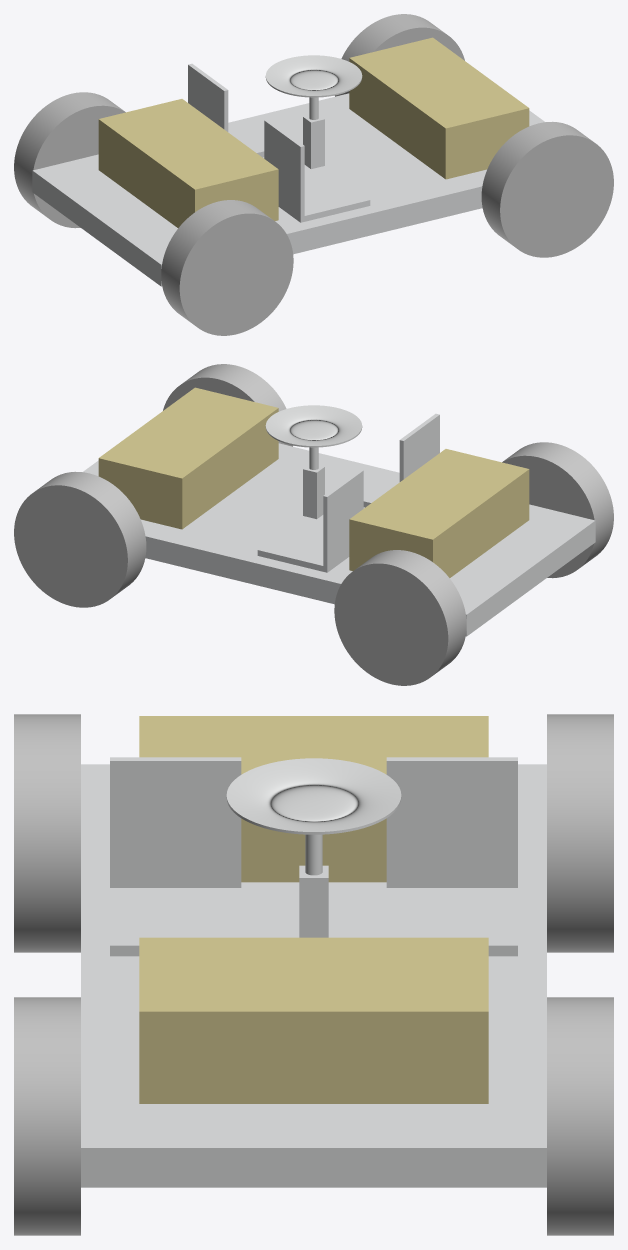
The model's file is lunar_rover.glb.
The picture shows the model from 3 angles, top to bottom: view 1: azimuth 30°, elevation 25°; view 2: azimuth 150°, elevation 25°; view 3: azimuth 270°, elevation 25°; orthographic projection. The views are drawn at different scales.
Visible parts, largest first — view 1: chassis, battery_f, battery_r, wheel_fr, wheel_rr, wheel_rl, dish, wheel_fl, seatback_l, seat_l, seatback_r, console_mast (+1 smaller); view 2: chassis, battery_f, battery_r, wheel_fl, wheel_rl, wheel_rr, dish, wheel_fr, seatback_r, seat_r, seatback_l, console_mast (+1 smaller); view 3: chassis, battery_f, battery_r, seatback_l, seatback_r, wheel_fl, wheel_fr, wheel_rl, wheel_rr, dish, seat_l, seat_r (+1 smaller).
Boxes of the visible parts, x1=… form: chassis: x1=32, y1=93, x2=545, y2=286; battery_f: x1=349, y1=37, x2=529, y2=179; battery_r: x1=98, y1=99, x2=278, y2=227; wheel_fr: x1=481, y1=121, x2=613, y2=257; wheel_rr: x1=161, y1=200, x2=293, y2=335; wheel_rl: x1=14, y1=92, x2=125, y2=228; dish: x1=265, y1=55, x2=362, y2=119; wheel_fl: x1=335, y1=14, x2=464, y2=96; seatback_l: x1=264, y1=119, x2=304, y2=216; seat_l: x1=278, y1=173, x2=370, y2=222; seatback_r: x1=188, y1=63, x2=228, y2=131; console_mast: x1=303, y1=115, x2=324, y2=169; chassis: x1=82, y1=443, x2=595, y2=636; battery_f: x1=98, y1=387, x2=278, y2=529; battery_r: x1=349, y1=449, x2=529, y2=577; wheel_fl: x1=14, y1=471, x2=146, y2=607; wheel_rl: x1=334, y1=550, x2=466, y2=685; wheel_rr: x1=502, y1=442, x2=613, y2=578; dish: x1=265, y1=405, x2=362, y2=469; wheel_fr: x1=163, y1=364, x2=292, y2=446; seatback_r: x1=323, y1=469, x2=363, y2=566; seat_r: x1=257, y1=523, x2=349, y2=572; seatback_l: x1=399, y1=413, x2=439, y2=481; console_mast: x1=303, y1=465, x2=324, y2=519; chassis: x1=81, y1=764, x2=546, y2=1187; battery_f: x1=139, y1=937, x2=488, y2=1103; battery_r: x1=139, y1=716, x2=488, y2=882; seatback_l: x1=110, y1=757, x2=241, y2=887; seatback_r: x1=386, y1=757, x2=517, y2=887; wheel_fl: x1=547, y1=997, x2=613, y2=1235; wheel_fr: x1=14, y1=997, x2=80, y2=1235; wheel_rl: x1=547, y1=714, x2=613, y2=952; wheel_rr: x1=14, y1=714, x2=80, y2=952; dish: x1=226, y1=758, x2=401, y2=875; seat_l: x1=110, y1=888, x2=241, y2=956; seat_r: x1=386, y1=888, x2=517, y2=956.
Size of the model in its own units: 3.12 by 1.09 by 2.06.
